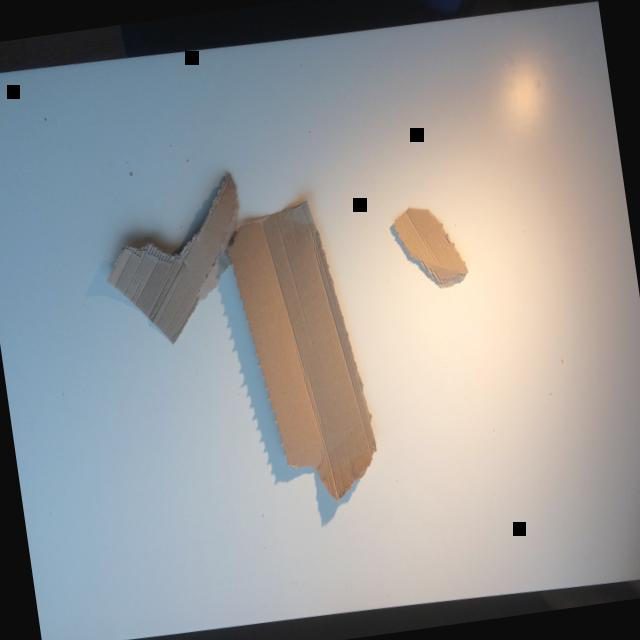Corrugated carton: (227, 200, 377, 501), (107, 173, 239, 344), (393, 208, 468, 288)
